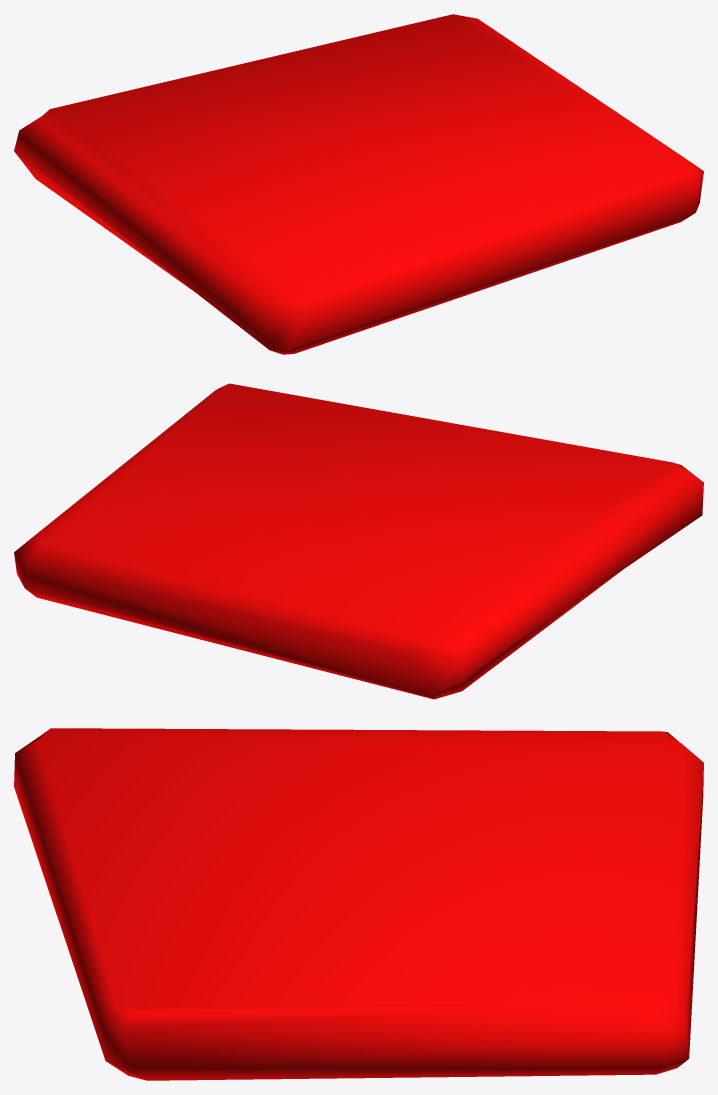
The model's file is Dalle1_LowPoly.fbx.
3 renders of one model, top to bottom at view 1: azimuth 30°, elevation 25°; view 2: azimuth 150°, elevation 25°; view 3: azimuth 270°, elevation 25°, orthographic. The views are drawn at different scales.
Parts seen in each view (by area): view 1: BSurfaceMesh; view 2: BSurfaceMesh; view 3: BSurfaceMesh.
Boxes of the visible parts, bbox=[...] form: BSurfaceMesh: bbox=[14, 14, 703, 354]; BSurfaceMesh: bbox=[14, 383, 703, 699]; BSurfaceMesh: bbox=[14, 728, 703, 1080].
Size of the model in its own units: 111 by 12.95 by 109.
